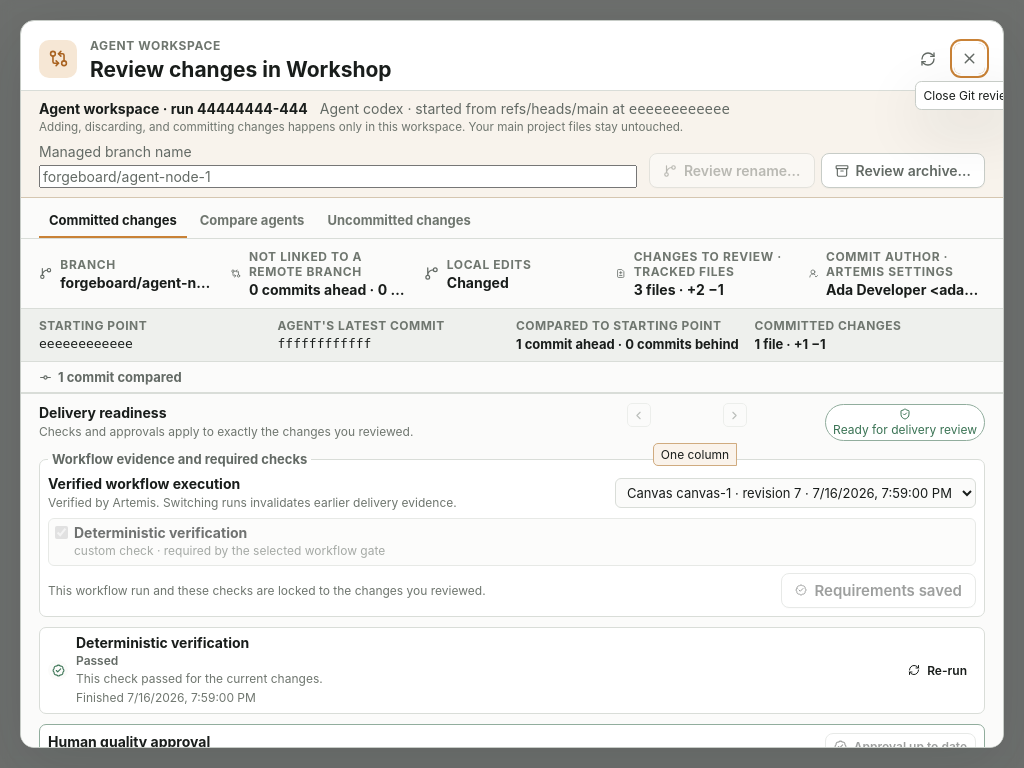
Test: GitReviewDialog › reports native check cancellation without claiming a delivery check started
What coordinates should you click on to do the following:
click the button with aria-label "Re-run Deterministic verification"
I would click on:
 (938, 670)
Its box is [899,656,976,684].
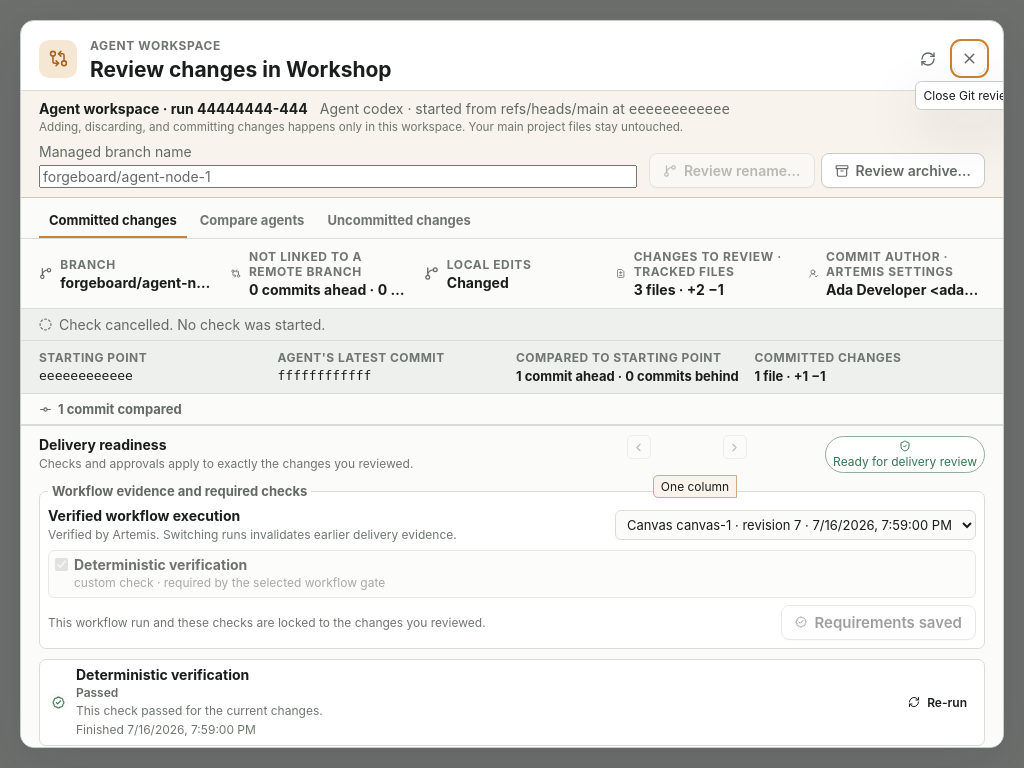
Expected: the text "Check cancelled. No check was started." is shown, [21,309,1003,341]
